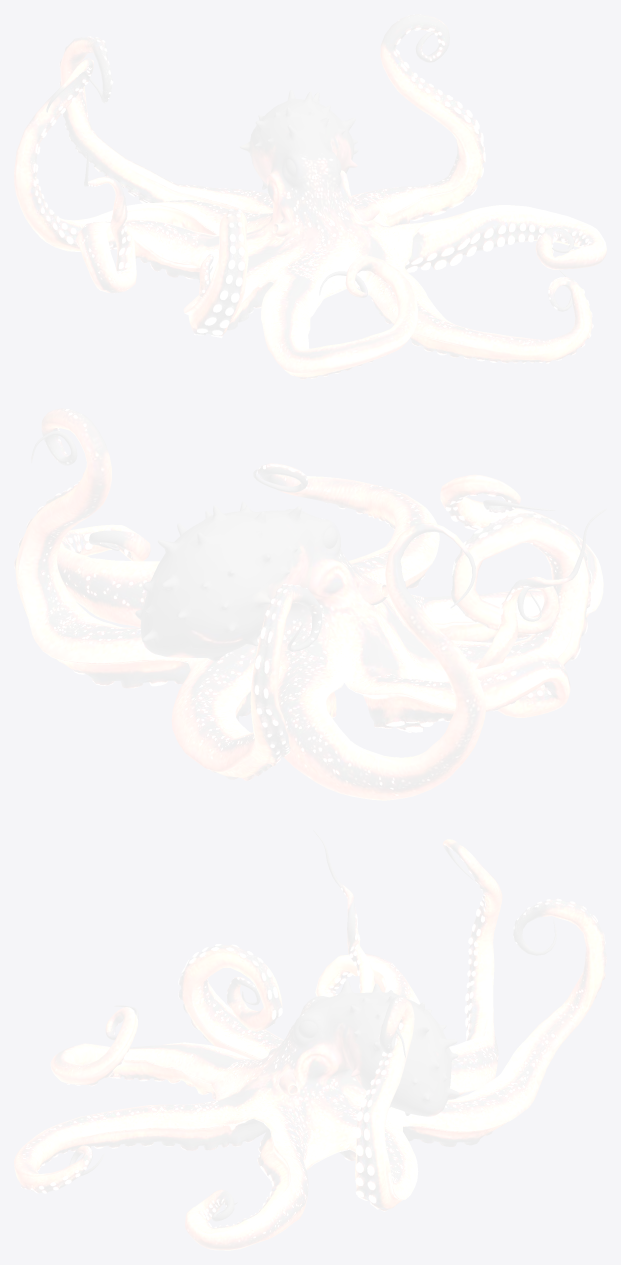
Rendered from Octopus.glb.
3 renders of one model, top to bottom at view 1: azimuth 30°, elevation 25°; view 2: azimuth 150°, elevation 25°; view 3: azimuth 270°, elevation 25°, orthographic. The views are drawn at different scales.
Parts seen in each view (by area): view 1: octopus.1; view 2: octopus.1; view 3: octopus.1.
Part boxes in pixels (x1,y1,x2,y2): octopus.1: (14, 14, 606, 379); octopus.1: (14, 408, 606, 800); octopus.1: (14, 829, 606, 1250).
Bounding box in the file's own units: 0.0778 × 0.0334 × 0.0828.
Materials: 1 (1 with a texture image).
